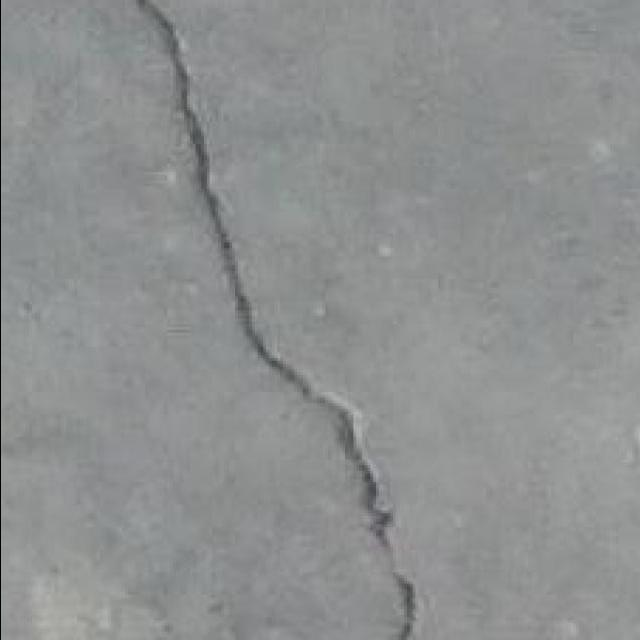crack: (134, 0, 420, 638), (158, 41, 296, 379), (160, 576, 242, 640), (153, 260, 207, 330)
